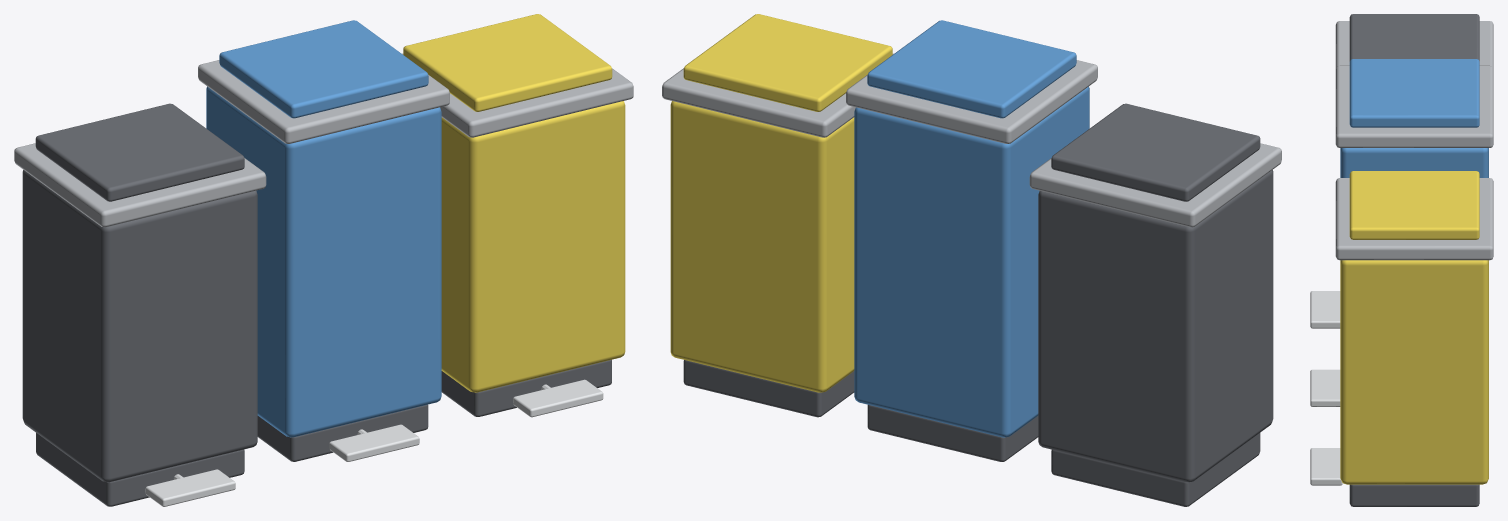
The model's file is waste-bin-set.glb.
3 views of the same model, side by side, from view 1: azimuth 30°, elevation 25°; view 2: azimuth 150°, elevation 25°; view 3: azimuth 270°, elevation 25° (orthographic). The views are drawn at different scales.
Visible parts, largest first — view 1: waste-bin-set; view 2: waste-bin-set; view 3: waste-bin-set.
Boxes of the visible parts, left/top/right/bottom form: waste-bin-set: left=14, top=14, right=633, bottom=506; waste-bin-set: left=662, top=14, right=1281, bottom=506; waste-bin-set: left=1310, top=14, right=1493, bottom=506.
Size of the model in its own units: 1.16 by 0.745 by 0.395.
